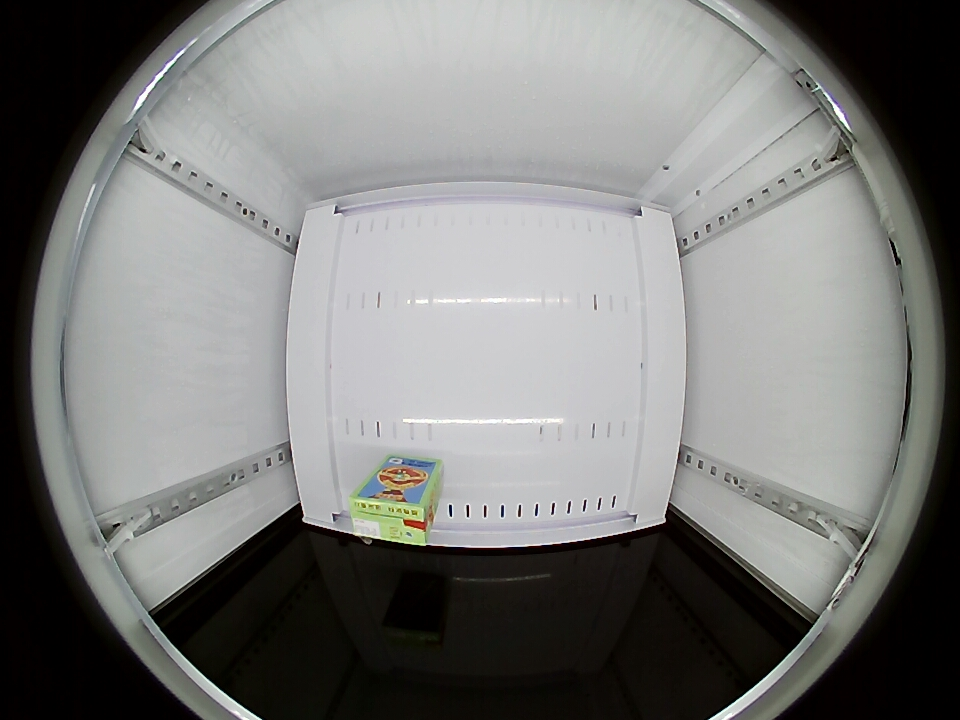wanglaoji: (350, 483, 436, 545)
